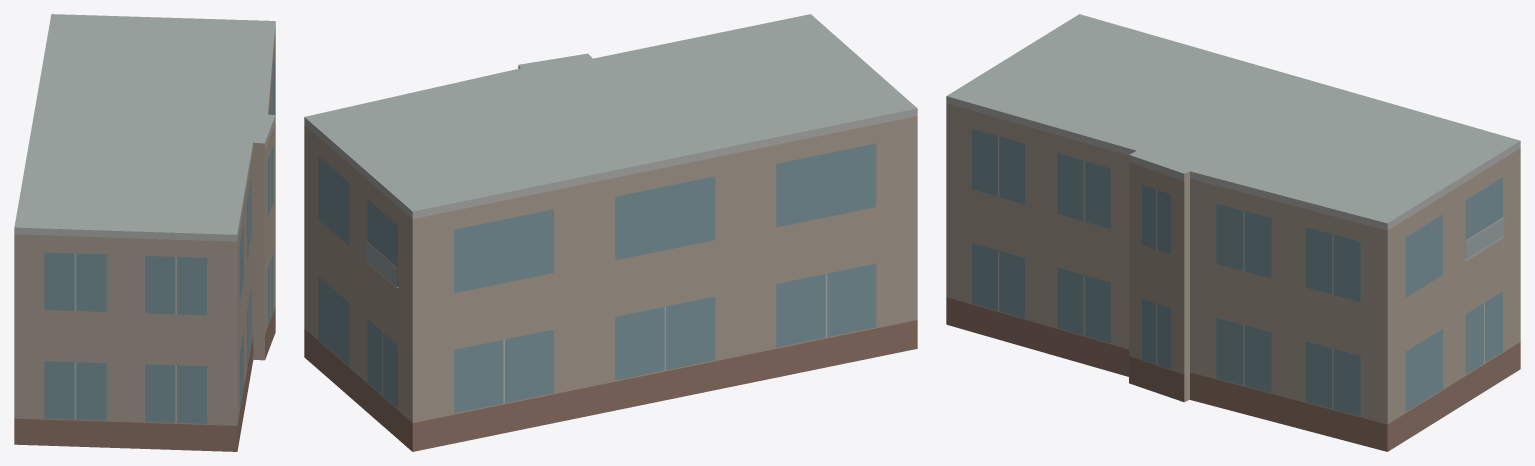
Rendered from survey-upis-32626928.glb.
3 views of the same model, side by side, from view 1: azimuth 30°, elevation 25°; view 2: azimuth 150°, elevation 25°; view 3: azimuth 270°, elevation 25° (orthographic). The views are drawn at different scales.
Visible parts, largest first — view 1: survey-upis-32626928.tmp; view 2: survey-upis-32626928.tmp; view 3: survey-upis-32626928.tmp.
Boxes of the visible parts, x1,y1,x2,y2 form: survey-upis-32626928.tmp: [14, 14, 275, 451]; survey-upis-32626928.tmp: [304, 14, 917, 451]; survey-upis-32626928.tmp: [946, 14, 1520, 451].
Bounding box in the file's own units: 15.15 × 7.7 × 17.55.
